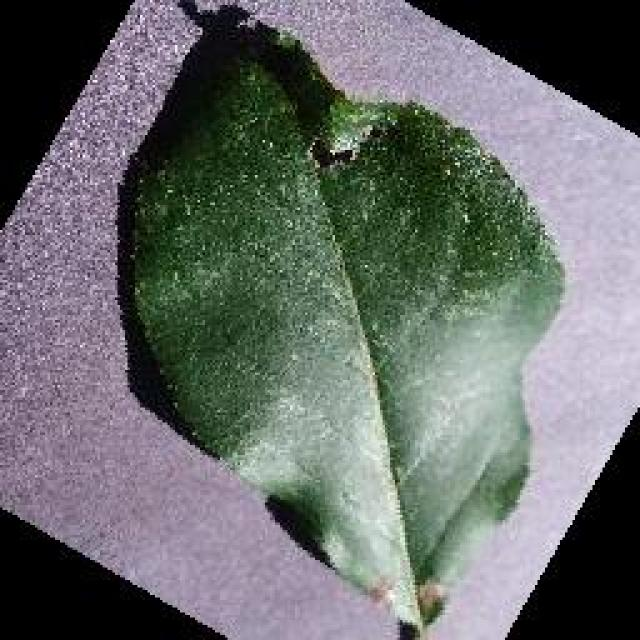Black_rot: (0, 0, 638, 638), (112, 5, 428, 637), (307, 95, 565, 630)
